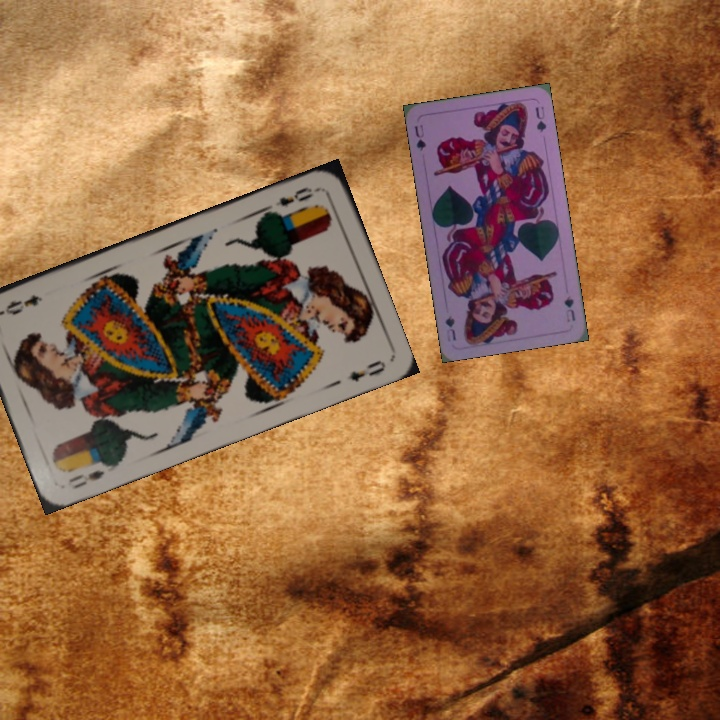EO: (271, 182, 322, 209), (64, 466, 107, 492)
GU: (410, 121, 429, 153), (560, 292, 578, 325)
